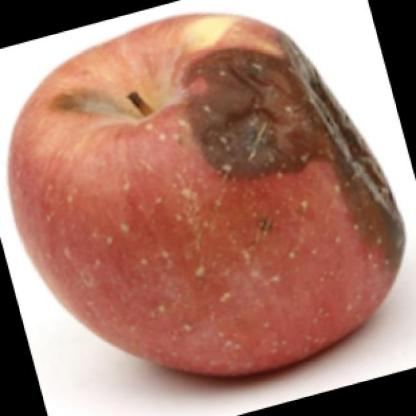defect: (182, 27, 406, 269), (50, 82, 126, 134)
